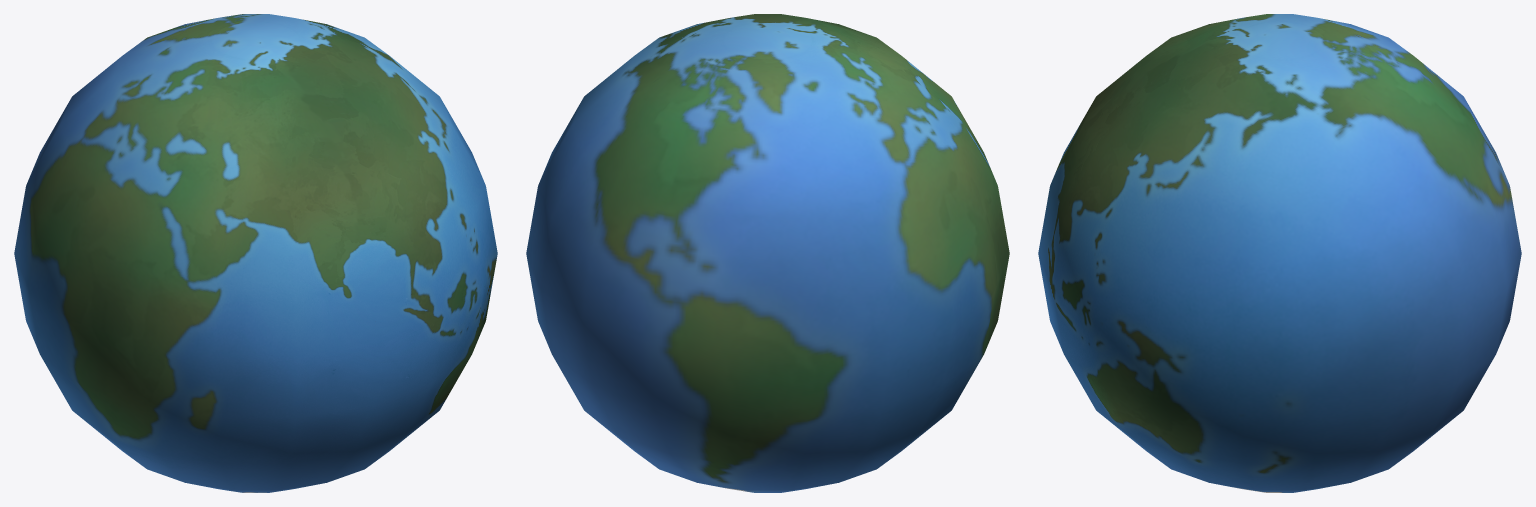
The model's file is Planet_Earth.fbx.
The picture shows the model from 3 angles, left to right: view 1: azimuth 30°, elevation 25°; view 2: azimuth 150°, elevation 25°; view 3: azimuth 270°, elevation 25°; orthographic projection.
Visible parts, largest first — view 1: Planet_Earth; view 2: Planet_Earth; view 3: Planet_Earth.
Part boxes in pixels (box(x1,y1,x2,y2)): Planet_Earth: box(14, 14, 497, 492); Planet_Earth: box(526, 14, 1009, 492); Planet_Earth: box(1038, 14, 1521, 492).
Bounding box in the file's own units: 197 × 200 × 200.
